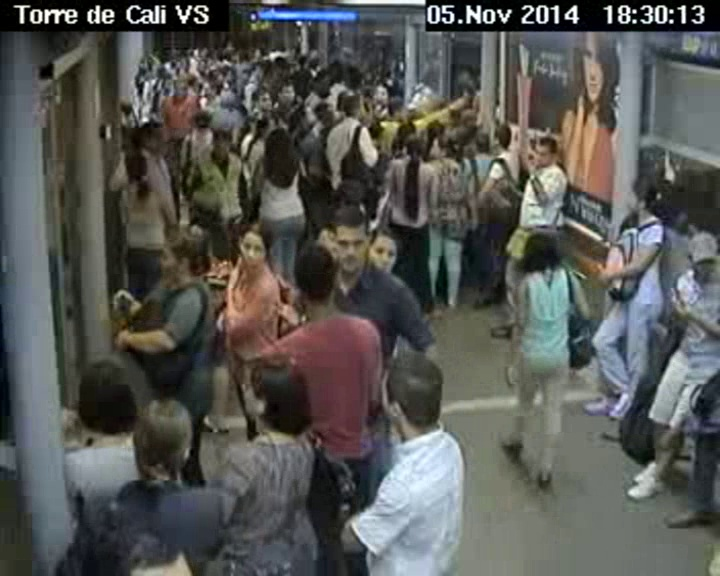person: (47, 506, 203, 576), (367, 343, 447, 432), (125, 398, 197, 483), (244, 349, 313, 431), (70, 356, 134, 438), (281, 236, 346, 308), (318, 208, 366, 282), (155, 229, 210, 288), (622, 174, 664, 229), (521, 220, 568, 268), (678, 230, 719, 280), (237, 217, 272, 272), (365, 222, 397, 276), (529, 133, 558, 172), (136, 120, 168, 155), (428, 129, 460, 163), (122, 151, 153, 186), (264, 128, 292, 162), (209, 127, 235, 162), (402, 132, 428, 158), (167, 75, 191, 103), (339, 93, 363, 120), (191, 108, 218, 131), (490, 121, 510, 151), (386, 96, 407, 122), (473, 129, 494, 155), (307, 72, 330, 95), (253, 113, 274, 138), (249, 91, 275, 110), (278, 83, 295, 109)
